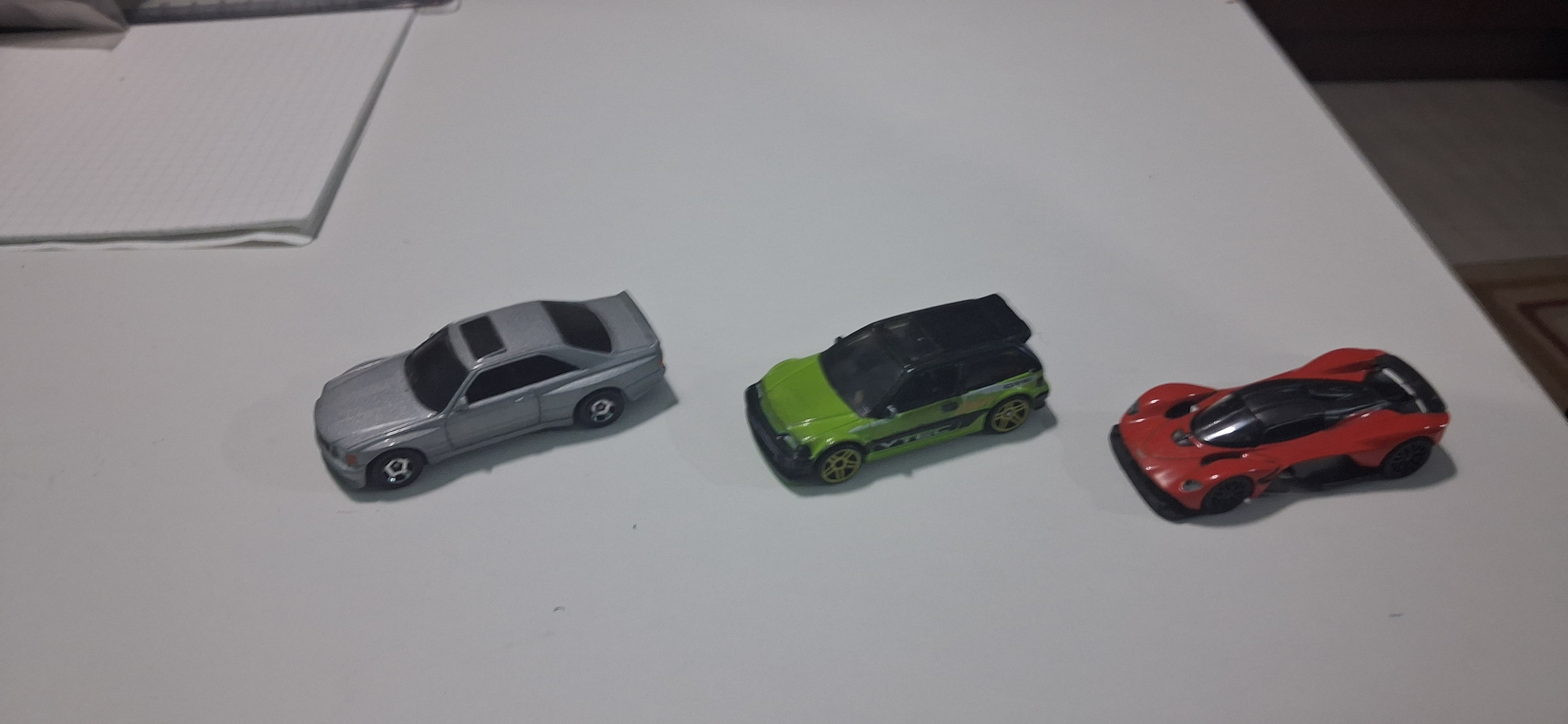Aston_Martin_Valkyrie: (1101, 305, 1477, 566)
Honda_Civic: (740, 236, 1057, 549)
Mercedes_Benz_560_SEC_AMG: (290, 257, 685, 541)
